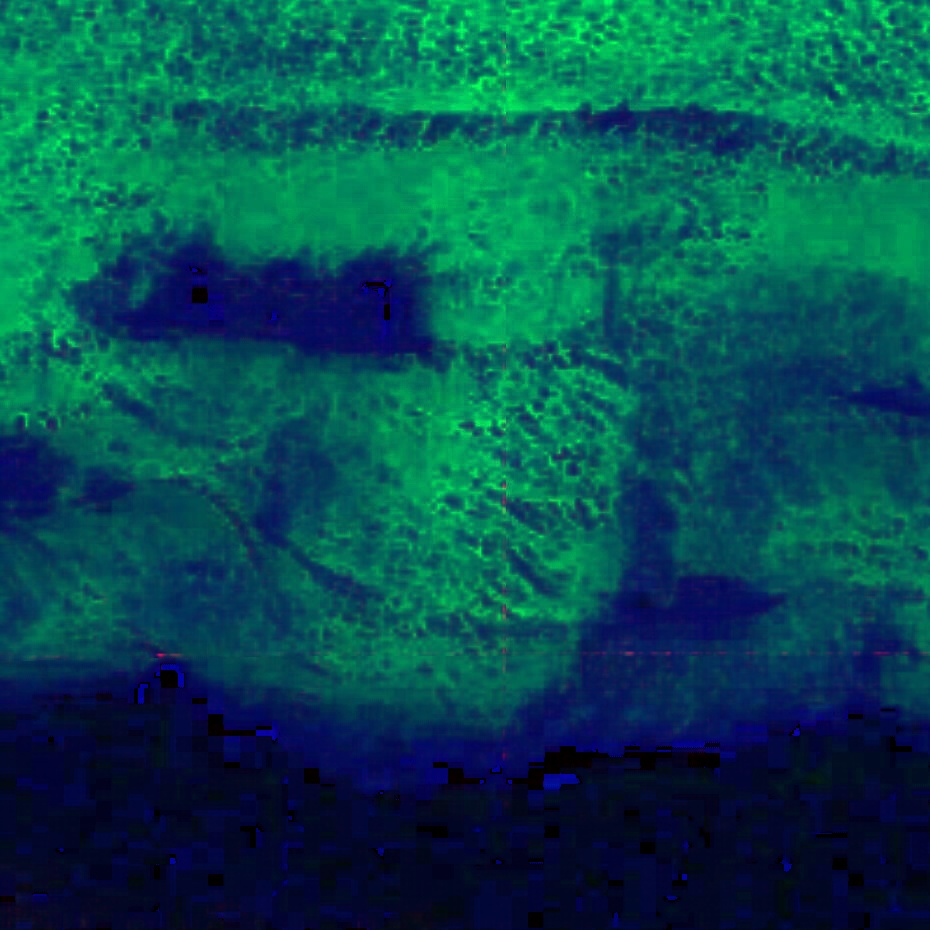rip_current: (252, 147, 664, 747)
